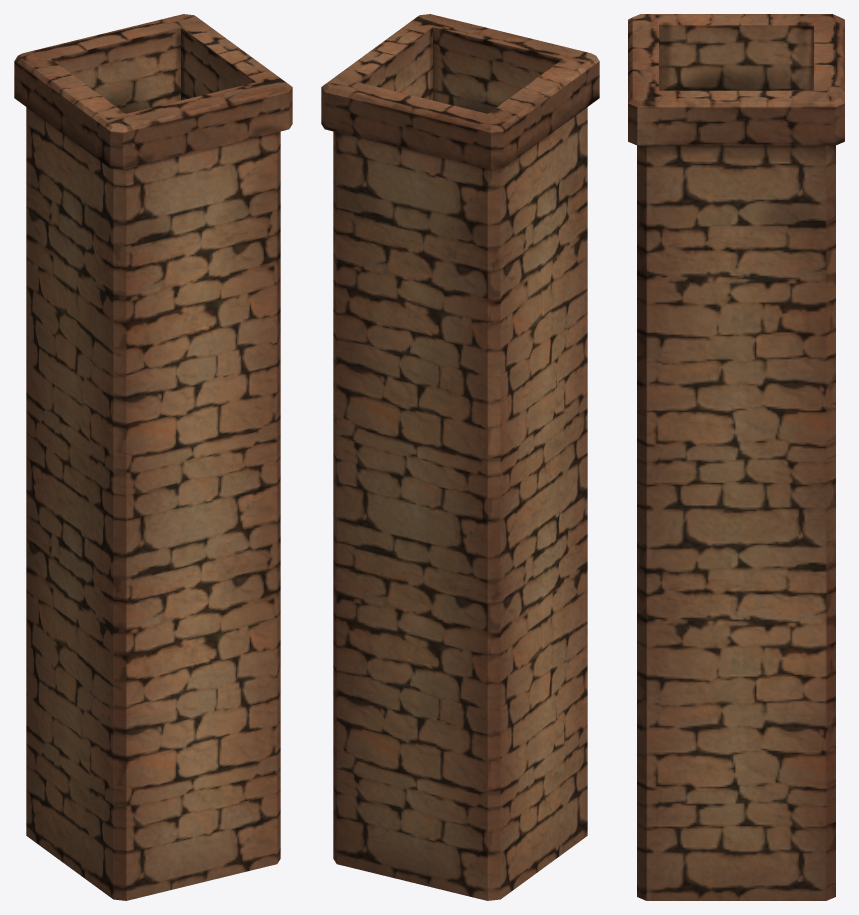
File: sb_obj_outdoor001_Castle01_chimney00.fbx
3 views of the same model, side by side, from view 1: azimuth 30°, elevation 25°; view 2: azimuth 150°, elevation 25°; view 3: azimuth 270°, elevation 25° (orthographic). The views are drawn at different scales.
Parts seen in each view (by area): view 1: sb_obj_outdoor001_Castle01_chimney00; view 2: sb_obj_outdoor001_Castle01_chimney00; view 3: sb_obj_outdoor001_Castle01_chimney00.
Part boxes in pixels (x1,y1,x2,y2): sb_obj_outdoor001_Castle01_chimney00: (14, 14, 292, 900); sb_obj_outdoor001_Castle01_chimney00: (321, 14, 599, 900); sb_obj_outdoor001_Castle01_chimney00: (628, 14, 844, 900).
Size of the model in its own units: 1.08 by 4.39 by 1.08.
